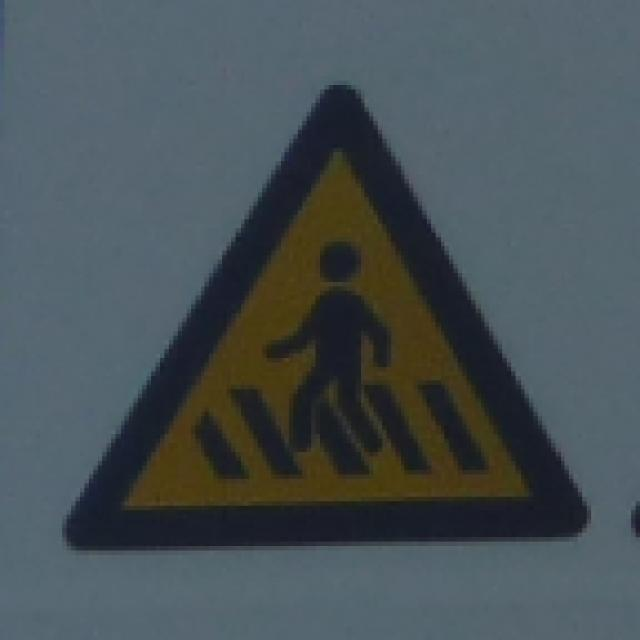Crossing: (72, 88, 590, 554)
